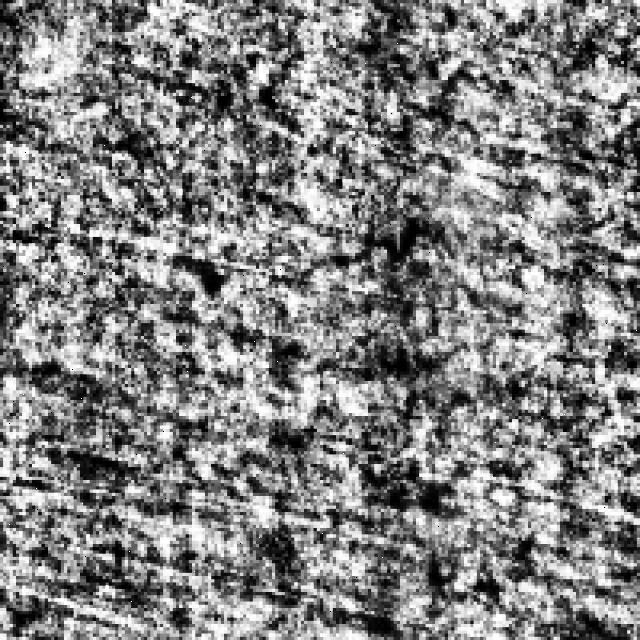Pitted_Surface: (243, 179, 480, 429)
